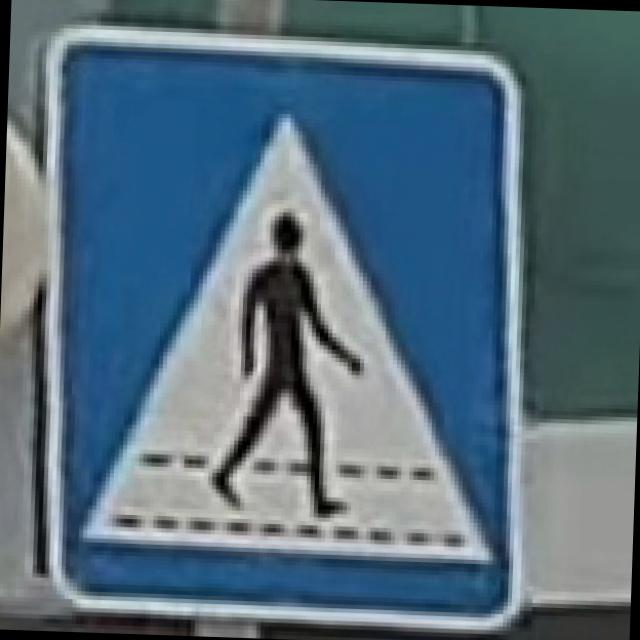zebracrossing_sign: (19, 14, 548, 630)
